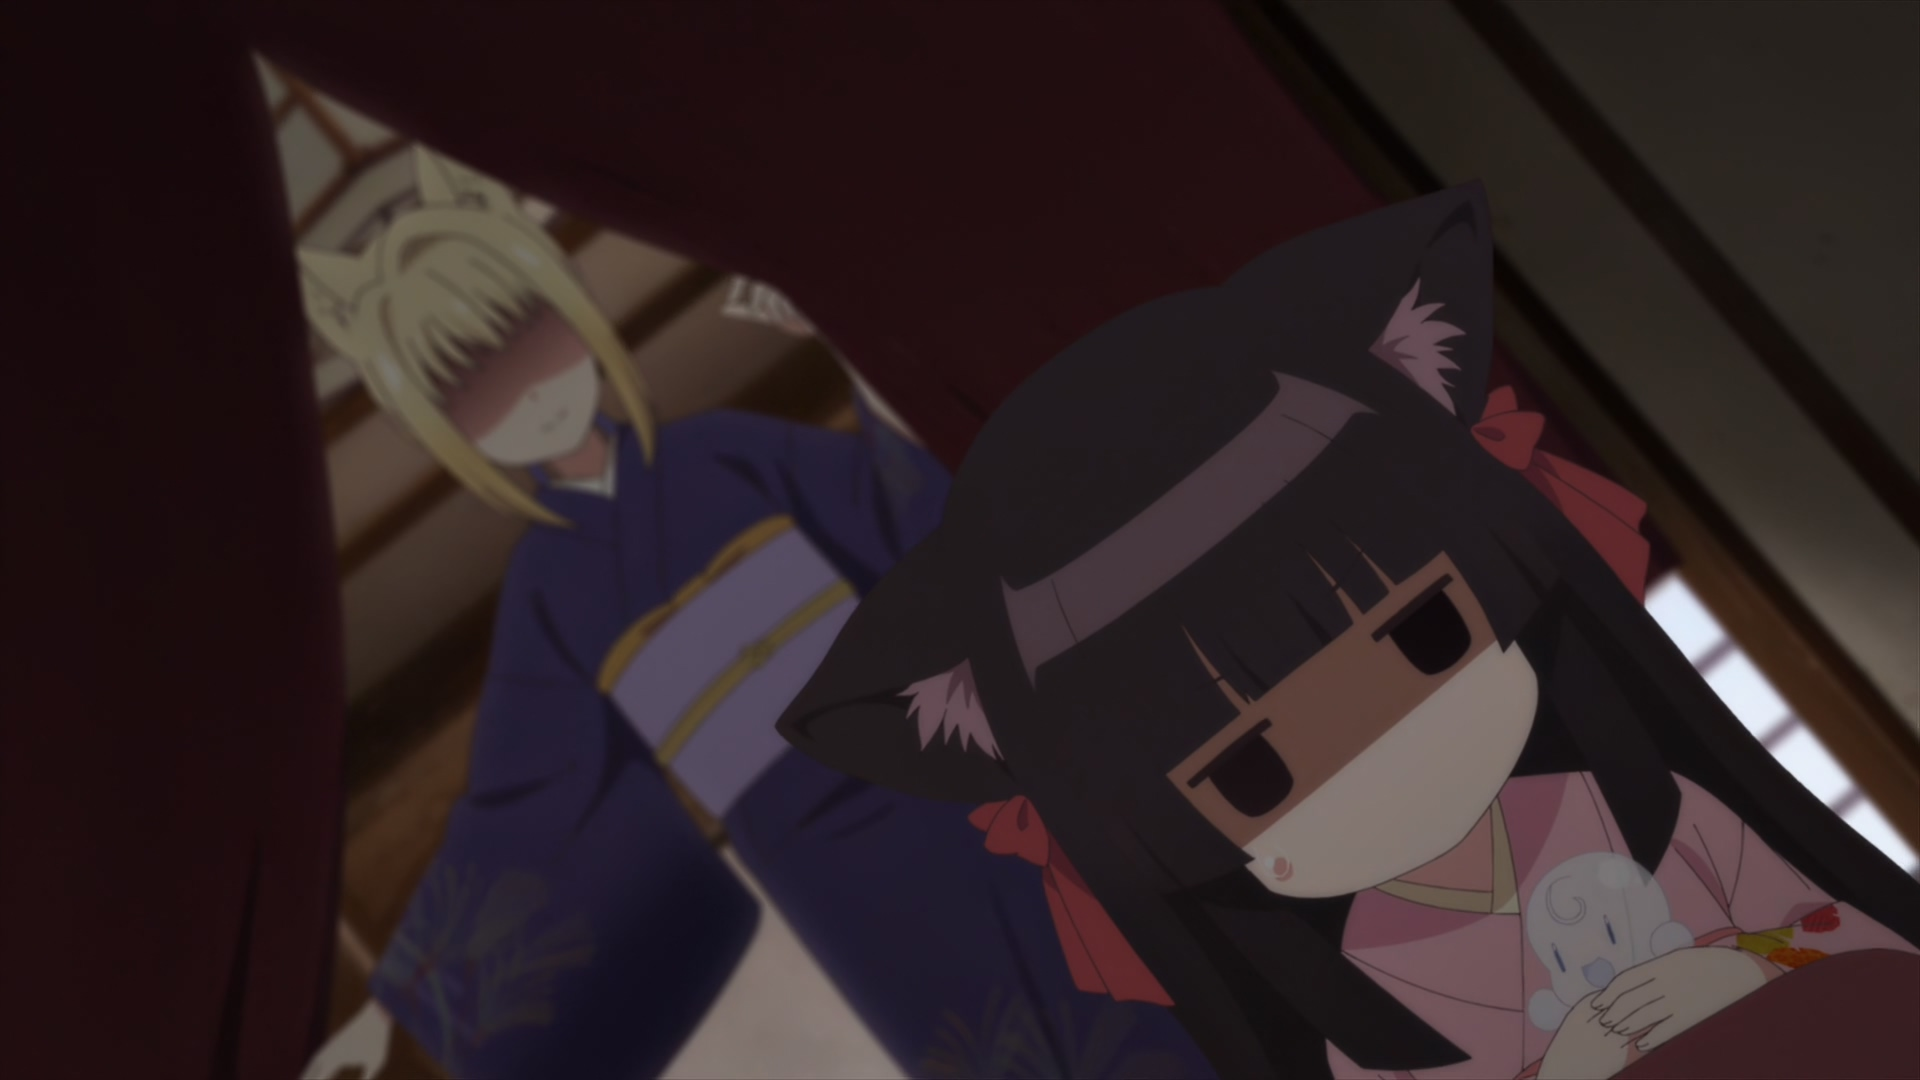桐: (295, 142, 1233, 1080)
樱: (774, 183, 1920, 1080)
